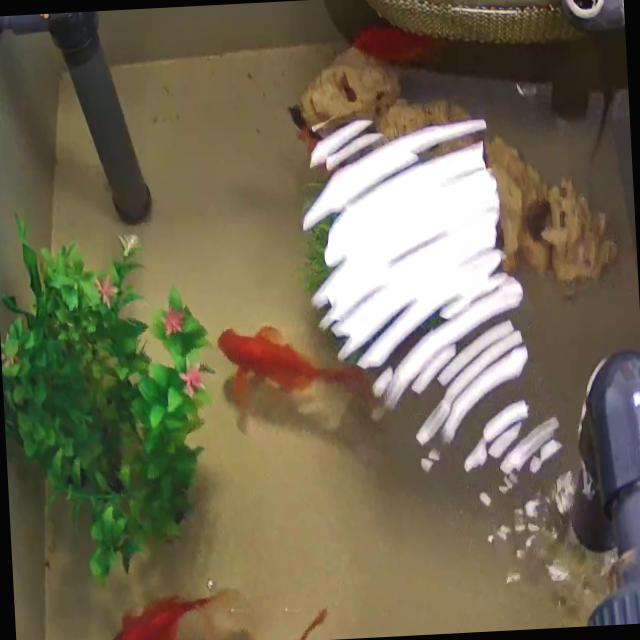fish: (216, 316, 352, 398), (95, 583, 262, 640)
